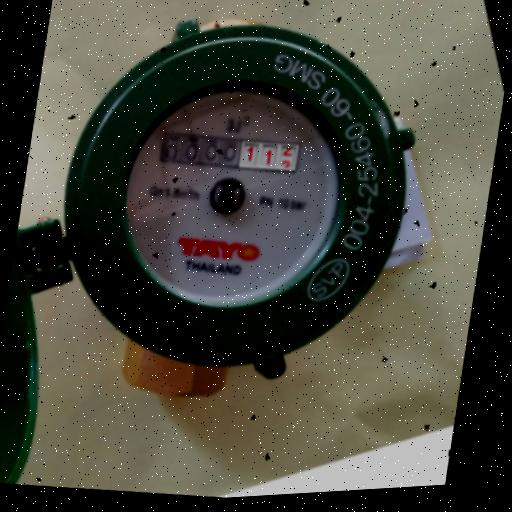0: (163, 135, 181, 162), (181, 136, 199, 162), (201, 138, 219, 164), (220, 140, 237, 165)
1: (241, 143, 258, 166), (259, 145, 276, 168)
2: (277, 145, 294, 169)
border_water_meter_number: (158, 123, 301, 182)
